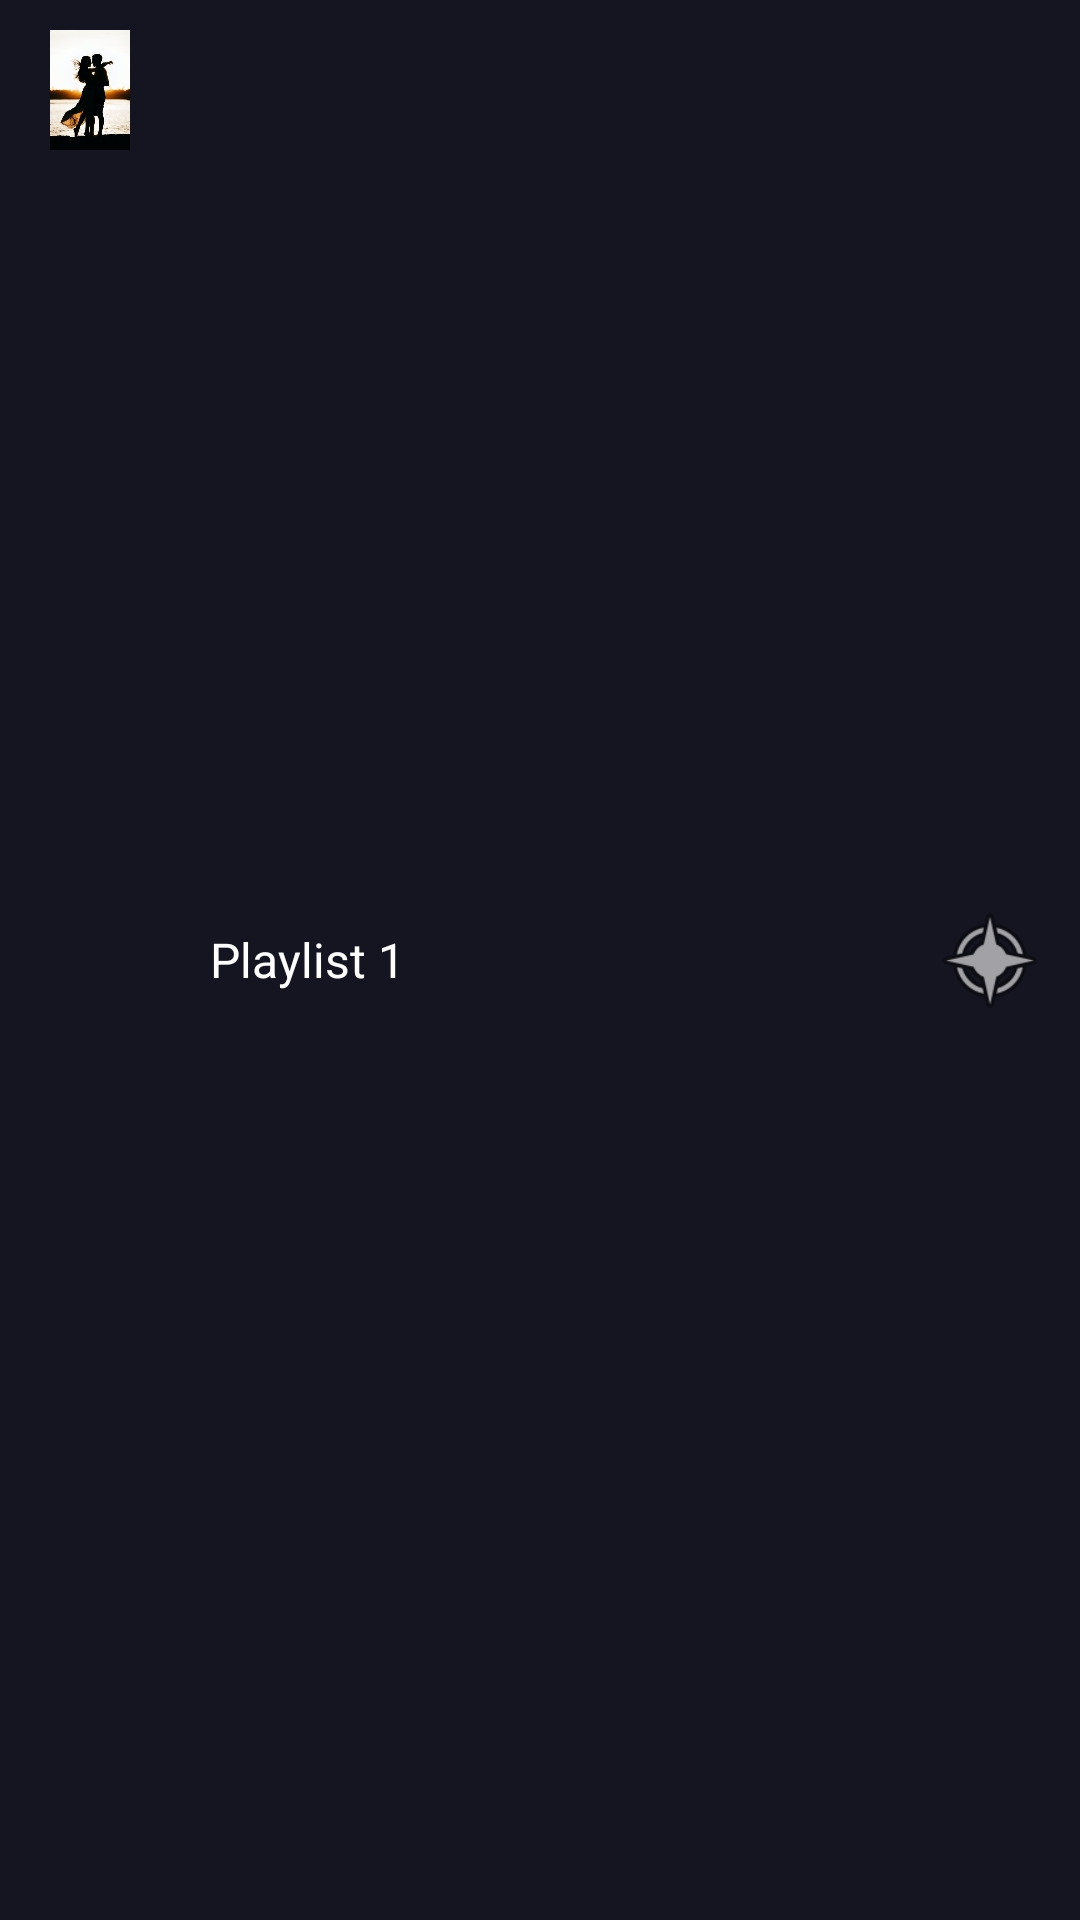

Where to tap for icons on this 1080×1920 app screen, as (x=x, y=y):
compass: (x=990, y=961)
